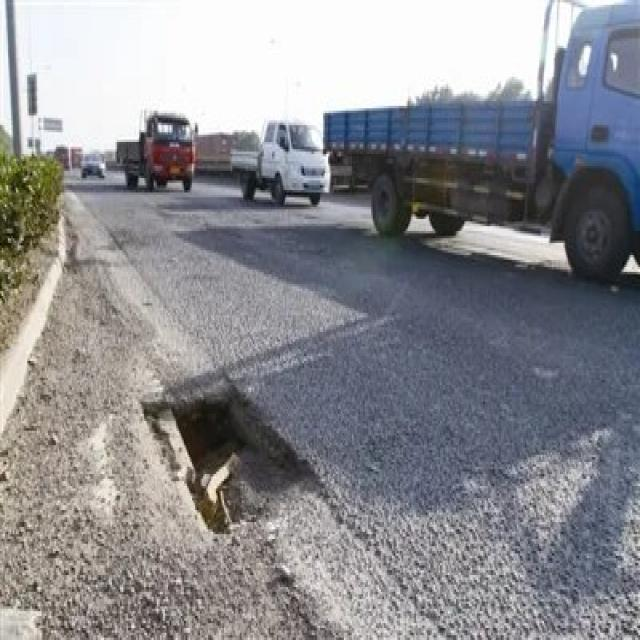Pothole: (136, 380, 314, 539)
